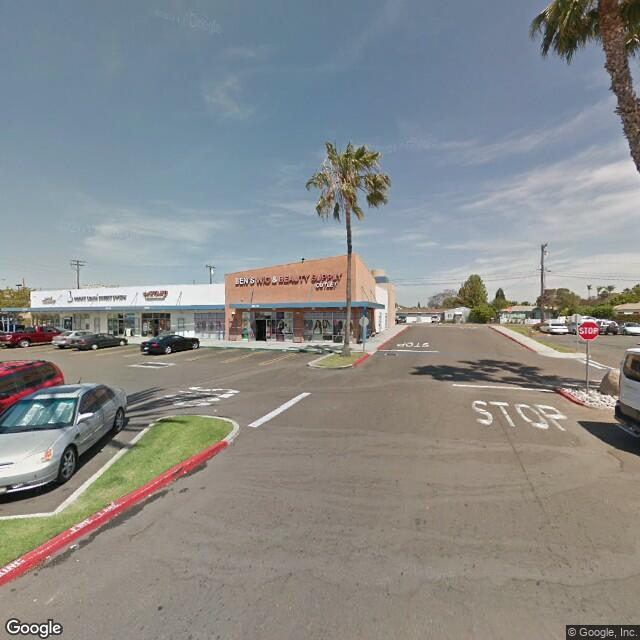litter: (28, 551, 54, 574), (67, 542, 80, 552), (145, 491, 158, 500), (181, 470, 189, 479)
